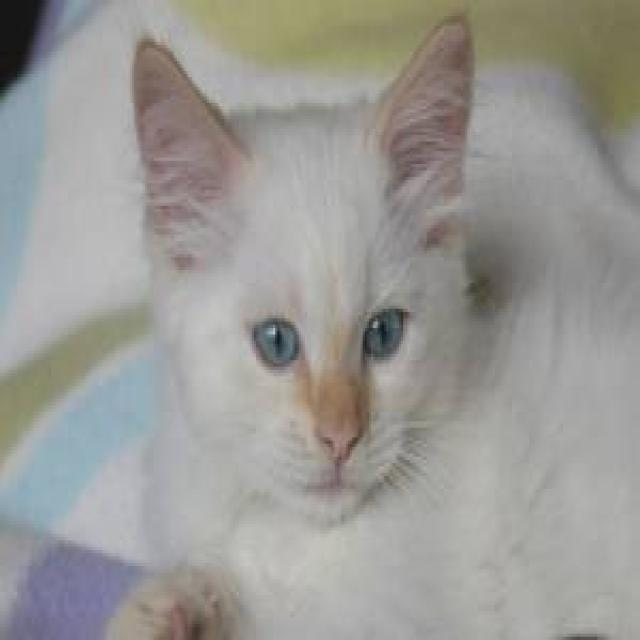Ragdoll: (125, 11, 488, 537)
